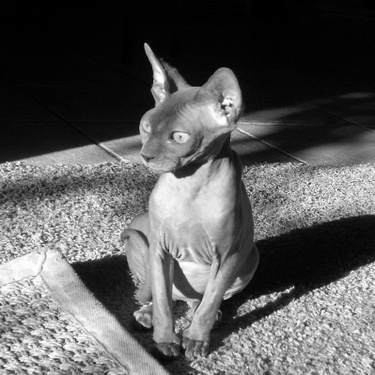cat: (121, 37, 260, 361)
